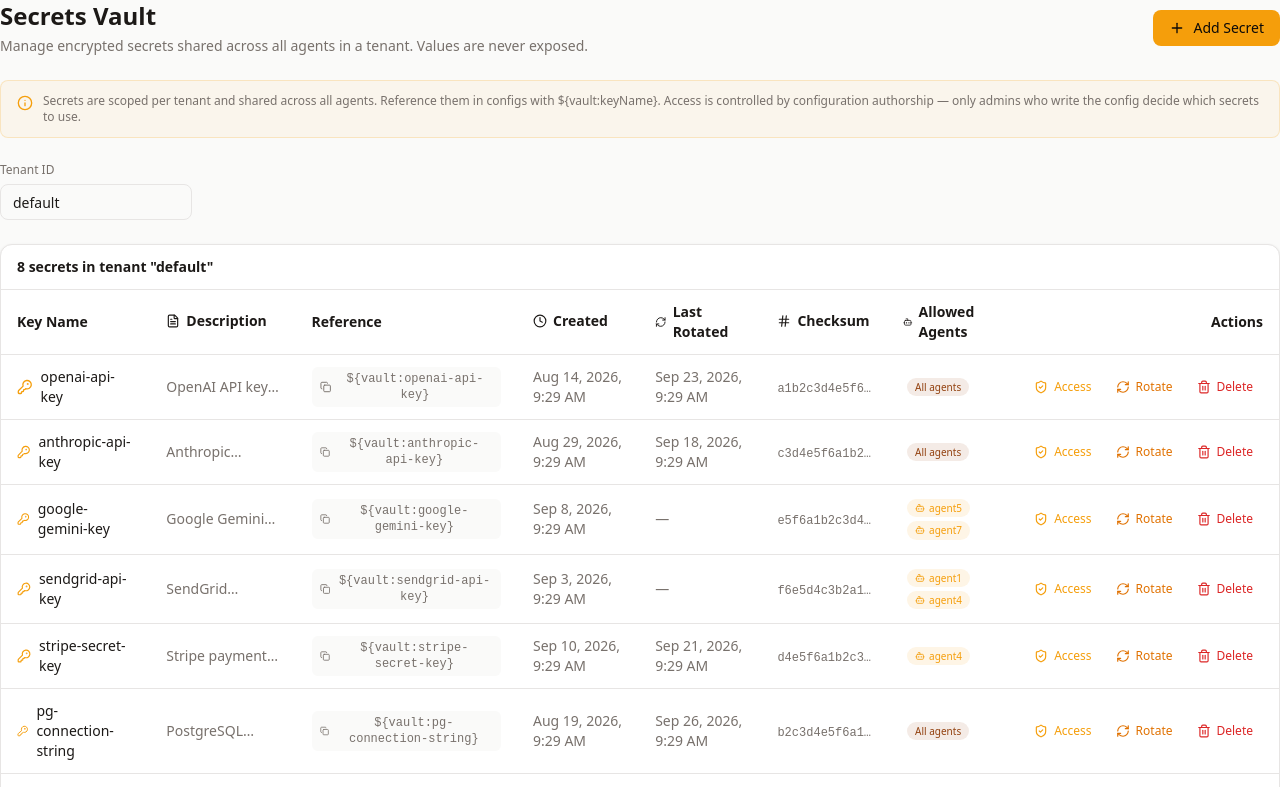
Test case: SecretsPage › shows reference preview when key name is entered
Step 1. Click the button with test id "create-secret-button" → (1217, 28), box [1153,10,1279,46]
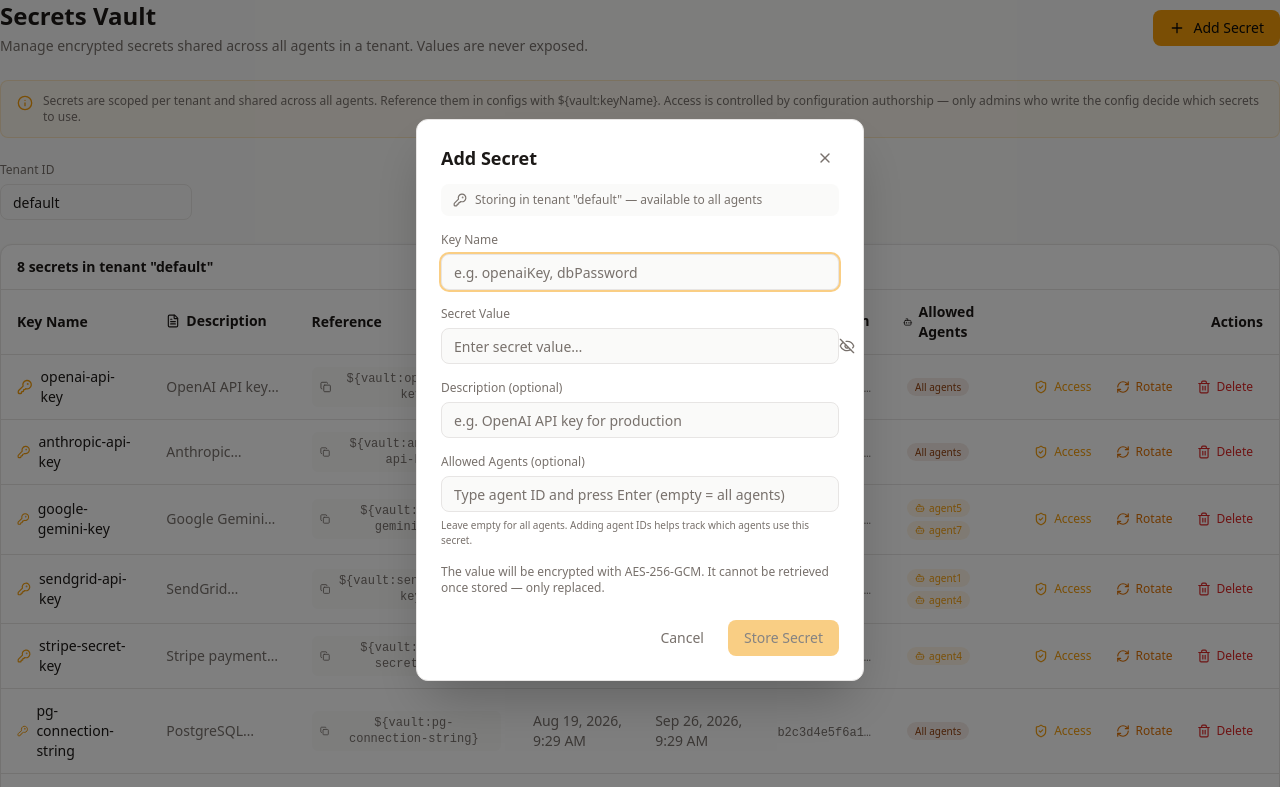
Step 2. Type "mySecret" into the field with test id "new-key-input" → (640, 272), box [441,254,839,290]
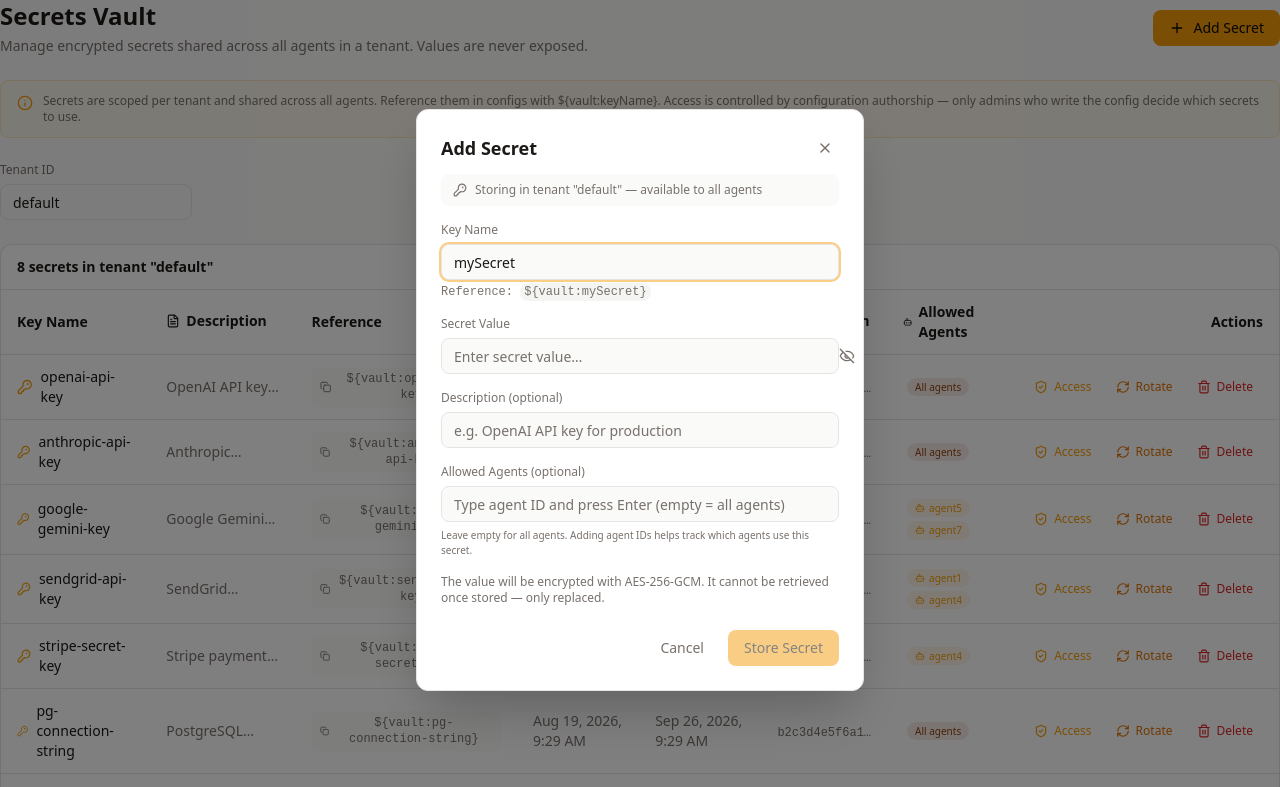
Expected: the text "${vault:mySecret}" is shown, [520,283,651,301]
